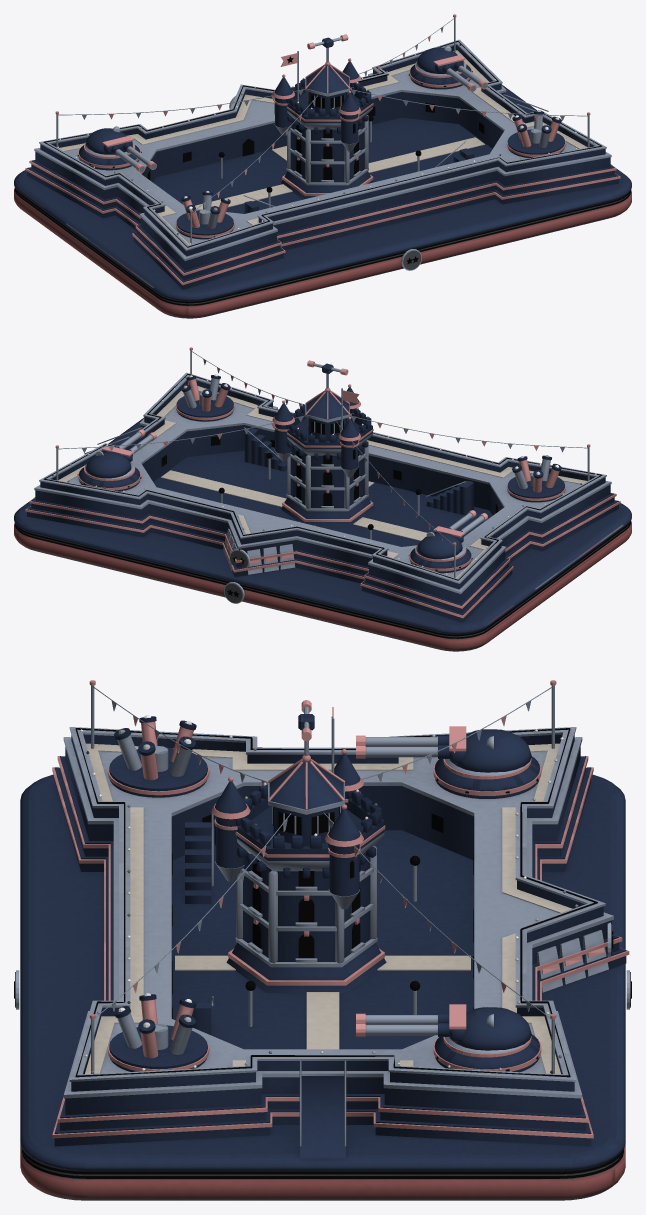
Rendered from SM_Evo_Fortress.fbx.
3 views of the same model, one above another, from view 1: azimuth 30°, elevation 25°; view 2: azimuth 150°, elevation 25°; view 3: azimuth 270°, elevation 25° (orthographic). The views are drawn at different scales.
Parts seen in each view (by area): view 1: SMN_Evo_Fortress, Emblem_Fx_Fortress, Head_FortressA, Head_FortressB; view 2: SMN_Evo_Fortress, Emblem_Fx_Fortress, Head_FortressA, Head_FortressB; view 3: SMN_Evo_Fortress, Emblem_Fx_Fortress, Head_FortressA, Head_FortressB.
Part boxes in pixels (x1,y1,x2,y2): SMN_Evo_Fortress: (14,14,631,318); Emblem_Fx_Fortress: (15,41,630,305); Head_FortressA: (415,45,487,91); Head_FortressB: (84,126,156,172); SMN_Evo_Fortress: (14,347,631,651); Emblem_Fx_Fortress: (15,374,630,638); Head_FortressA: (84,429,156,481); Head_FortressB: (415,510,487,561); SMN_Evo_Fortress: (15,680,630,1200); Emblem_Fx_Fortress: (14,715,631,1178); Head_FortressA: (356,1004,531,1057); Head_FortressB: (356,726,531,779).
Bounding box in the file's own units: 2.84 × 1.13 × 1.88.
